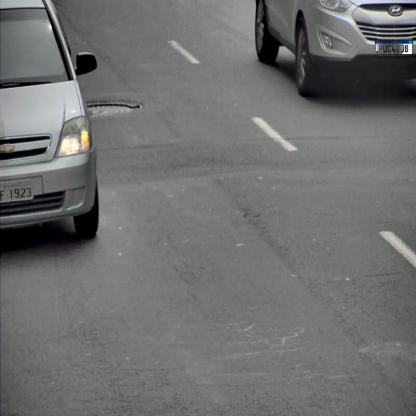PlacaM: (375, 39, 413, 55)
